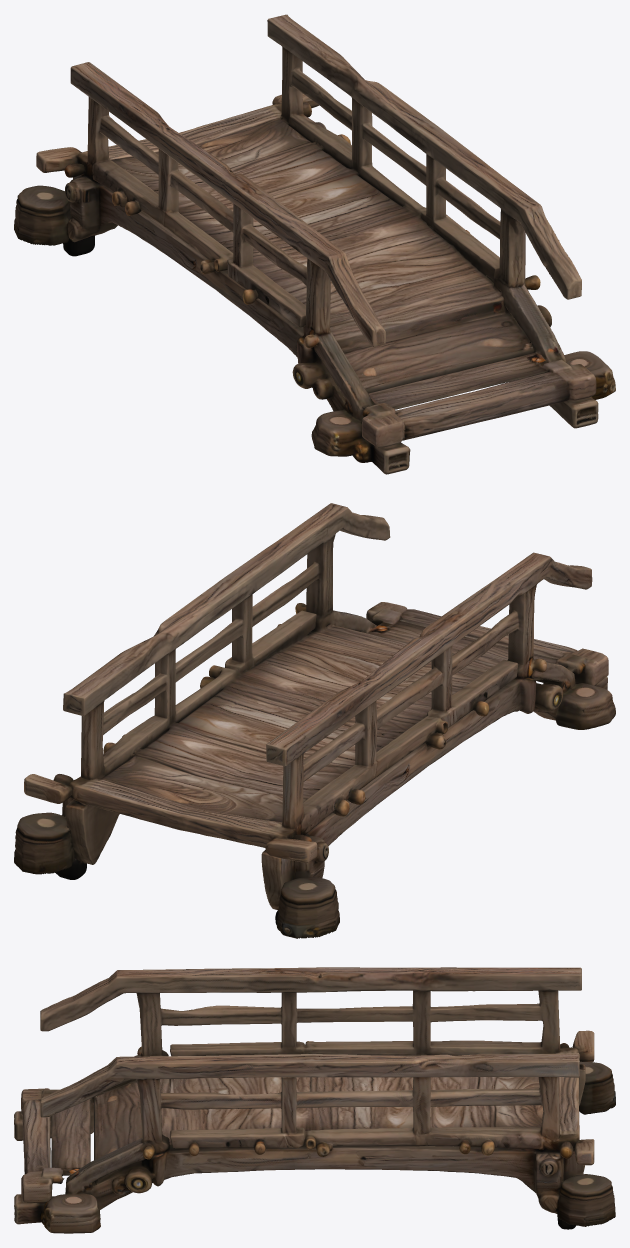
The model's file is plaza-bridge-wooden.glb.
3 views of the same model, one above another, from view 1: azimuth 30°, elevation 25°; view 2: azimuth 150°, elevation 25°; view 3: azimuth 270°, elevation 25° (orthographic). The views are drawn at different scales.
Visible parts, largest first — view 1: tripo_node_6c86938e-0487-4002-b90f-54ca84c1cb81; view 2: tripo_node_6c86938e-0487-4002-b90f-54ca84c1cb81; view 3: tripo_node_6c86938e-0487-4002-b90f-54ca84c1cb81.
Boxes of the visible parts, x1,y1,x2,y2 form: tripo_node_6c86938e-0487-4002-b90f-54ca84c1cb81: (14,14,615,474); tripo_node_6c86938e-0487-4002-b90f-54ca84c1cb81: (14,503,615,938); tripo_node_6c86938e-0487-4002-b90f-54ca84c1cb81: (14,967,615,1233).
Size of the model in its own units: 3.5 by 2 by 6.57.
1 material, 1 textured.
